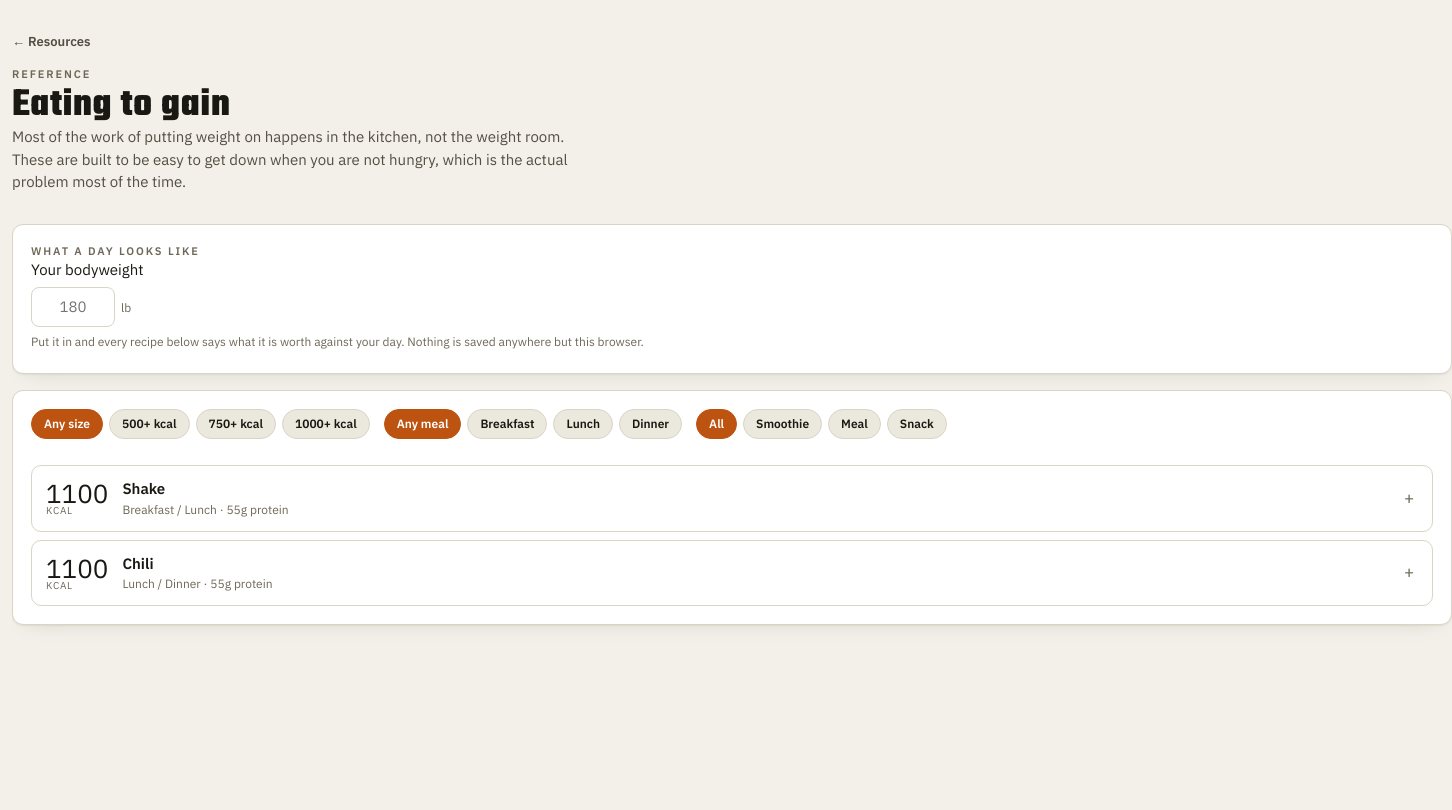
it: dinner is narrower than lunch, because the shakes are not dinner
Click the button "Dinner" at (651, 424), box [619, 409, 682, 439]
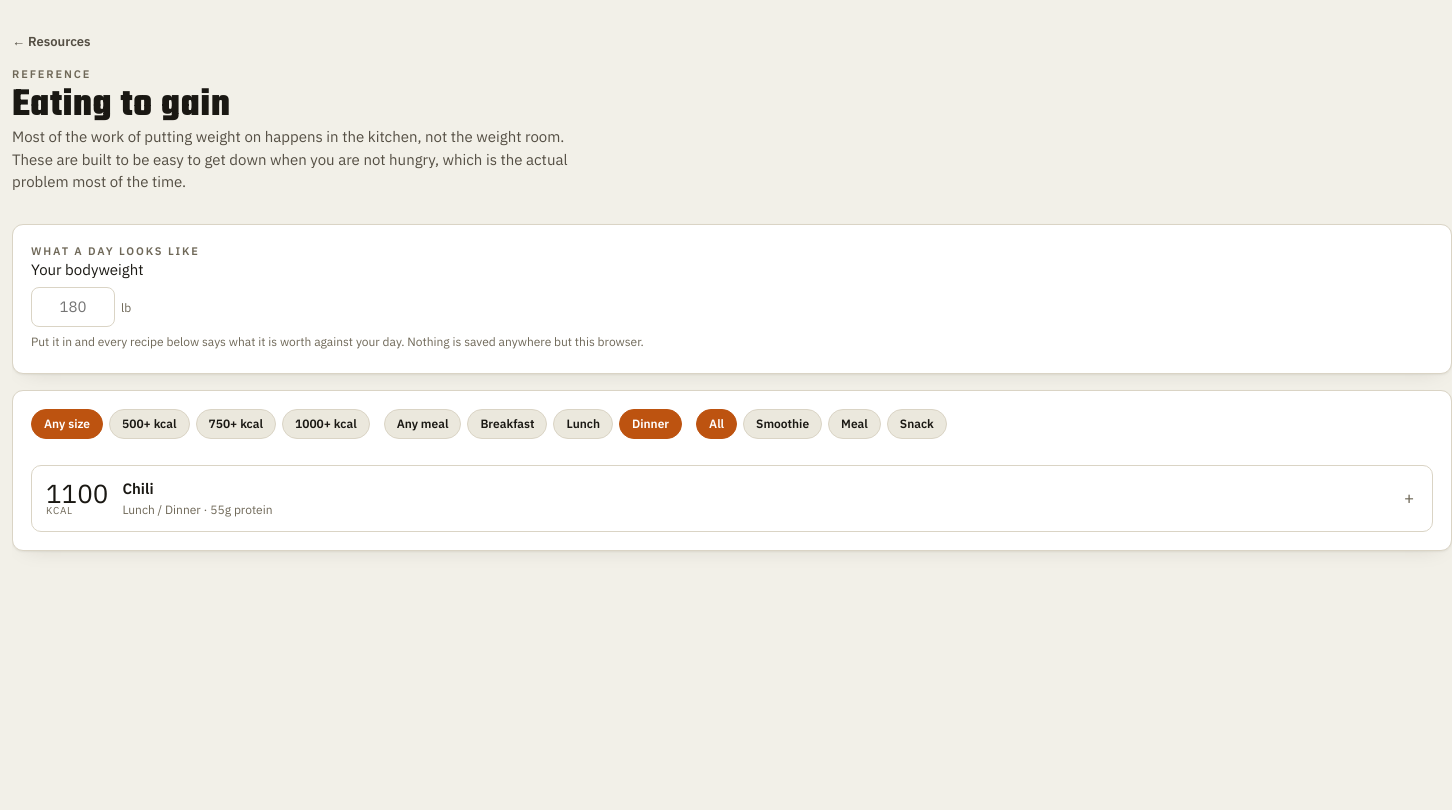
Expected: the text "Chili" is shown, [122, 479, 154, 498]
Now the button "Shake" is gone
